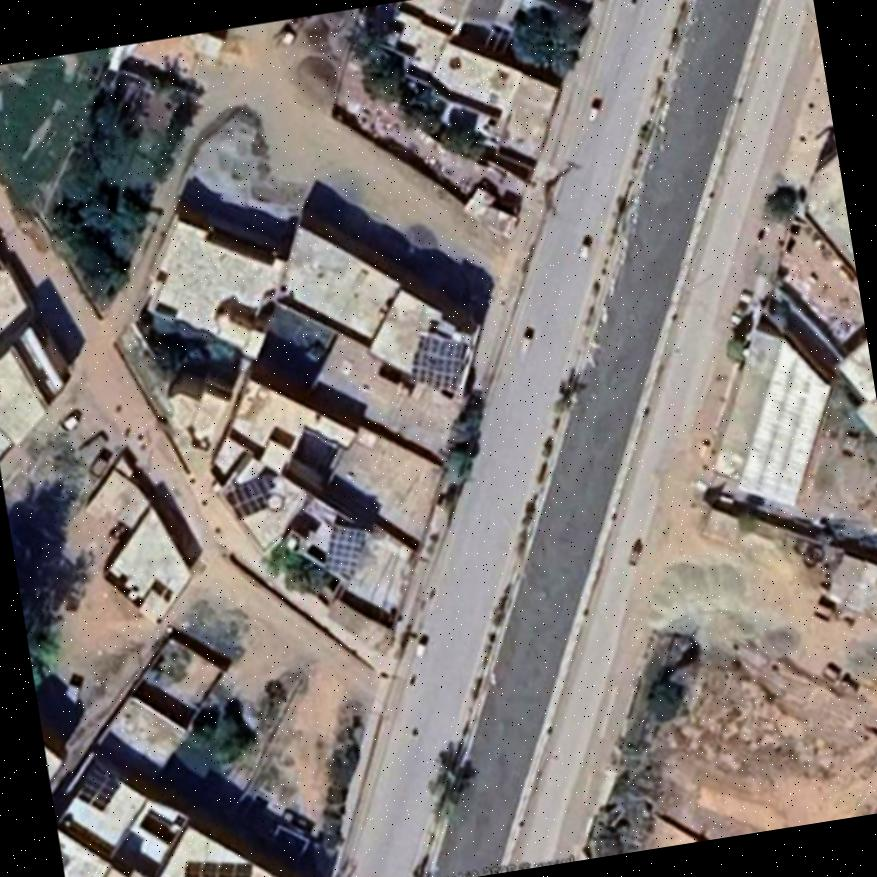Solarpanel: (411, 334, 469, 389), (325, 523, 367, 577), (76, 766, 119, 811), (225, 479, 266, 517), (183, 862, 252, 877)
